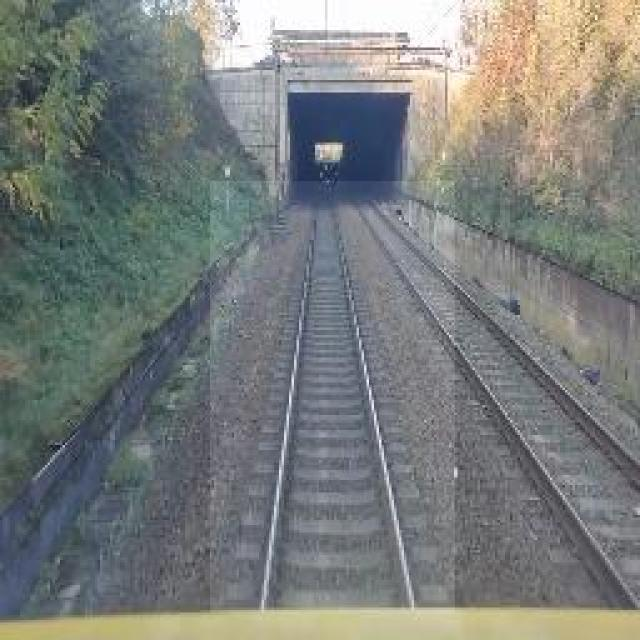rail: (211, 182, 456, 614)
